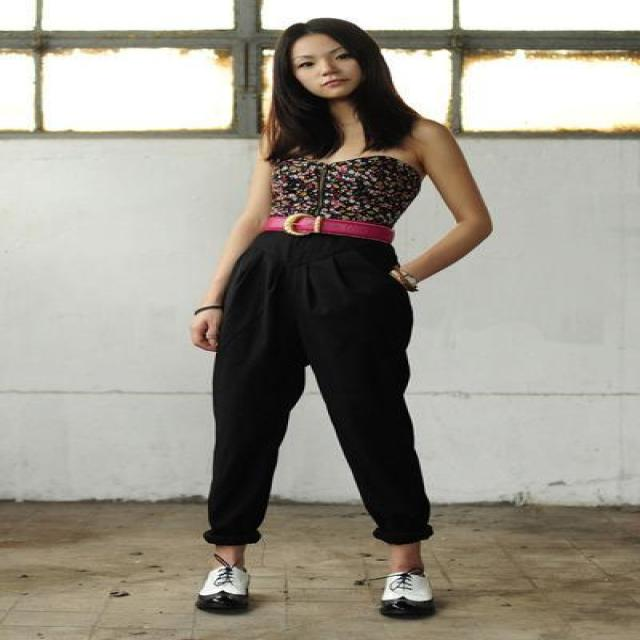pants: (203, 228, 432, 550)
shirt: (267, 141, 427, 216)
shoe: (195, 565, 440, 620)
